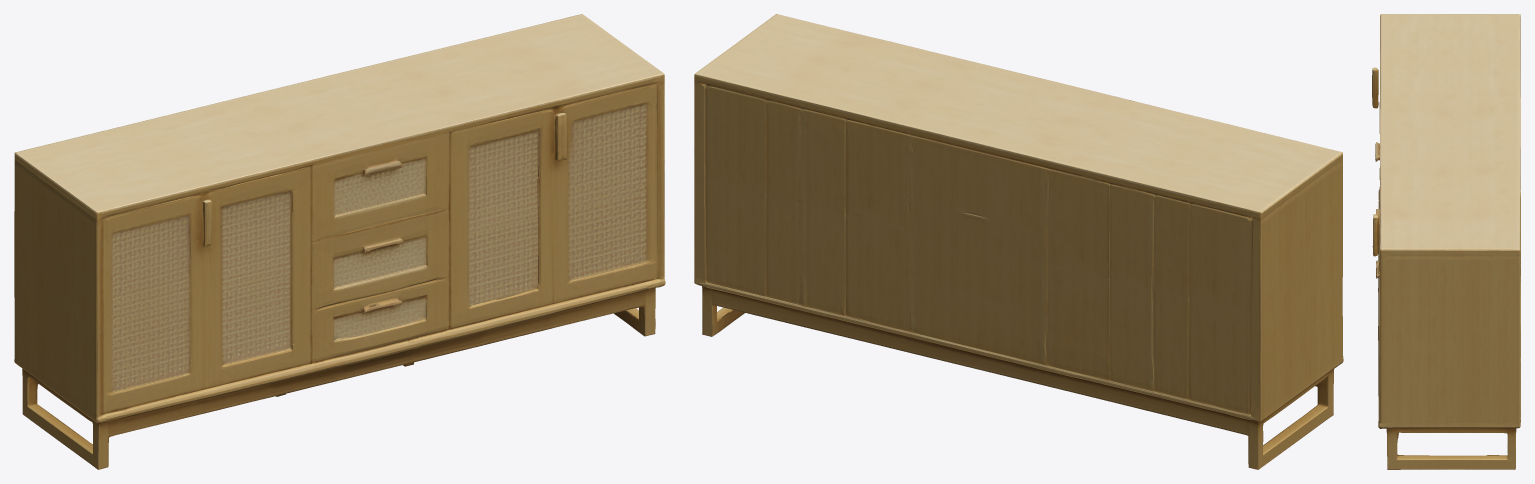
Rendered from BUFETERA BEJUCO NUEZ.glb.
The picture shows the model from 3 angles, left to right: view 1: azimuth 30°, elevation 25°; view 2: azimuth 150°, elevation 25°; view 3: azimuth 270°, elevation 25°; orthographic projection. The views are drawn at different scales.
Visible parts, largest first — view 1: world; view 2: world; view 3: world.
Part boxes in pixels (bbox=[...]): world: bbox=[14, 14, 665, 469]; world: bbox=[694, 14, 1343, 469]; world: bbox=[1372, 14, 1520, 469].
Bounding box in the file's own units: 1.8 × 0.8 × 0.48.
Materials: 1 (1 with a texture image).
